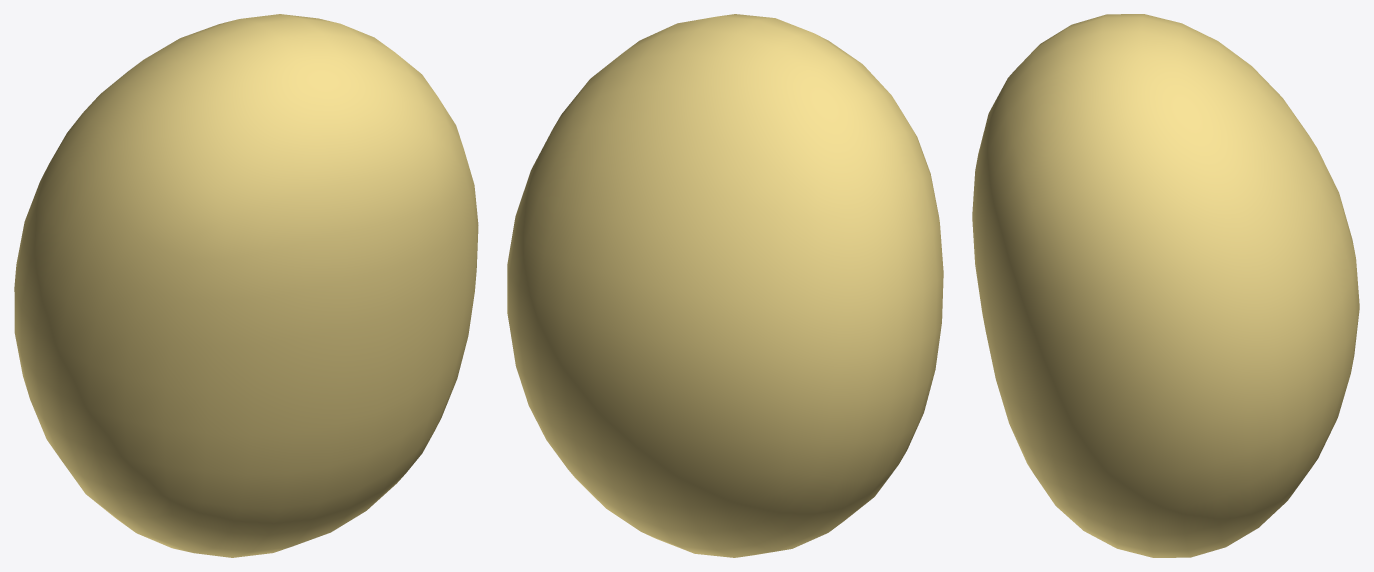
3 renders of one model, left to right at view 1: azimuth 30°, elevation 25°; view 2: azimuth 150°, elevation 25°; view 3: azimuth 270°, elevation 25°, orthographic. The views are drawn at different scales.
Parts seen in each view (by area): view 1: ZA_7ab4b01026591f44; view 2: ZA_7ab4b01026591f44; view 3: ZA_7ab4b01026591f44.
Part boxes in pixels (box(x1,y1,x2,y2)): ZA_7ab4b01026591f44: box(14, 14, 478, 557); ZA_7ab4b01026591f44: box(507, 14, 943, 557); ZA_7ab4b01026591f44: box(972, 14, 1359, 557).
Size of the model in its own units: 0.0027 by 0.00327 by 0.00227.
